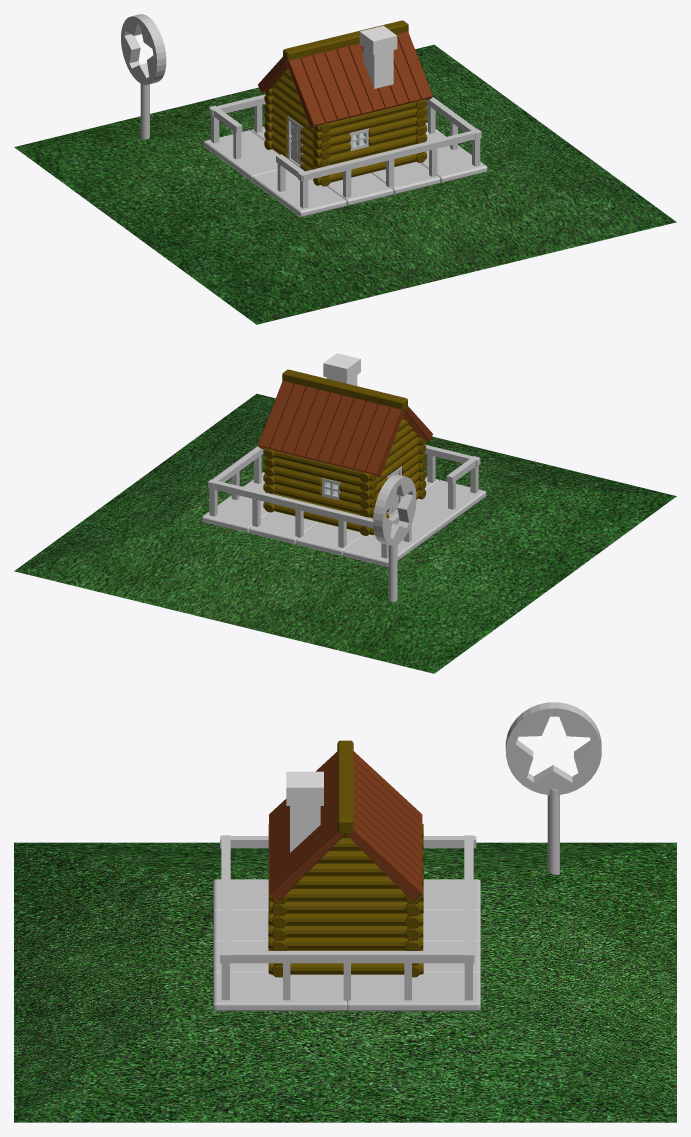
3 views of the same model, one above another, from view 1: azimuth 30°, elevation 25°; view 2: azimuth 150°, elevation 25°; view 3: azimuth 270°, elevation 25° (orthographic). The views are drawn at different scales.
Parts seen in each view (by area): view 1: House; view 2: House; view 3: House.
Boxes of the visible parts, x1,y1,x2,y2 form: House: (14, 14, 676, 324); House: (14, 353, 676, 673); House: (14, 702, 676, 1122).
Size of the model in its own units: 1379 by 494 by 1379.
